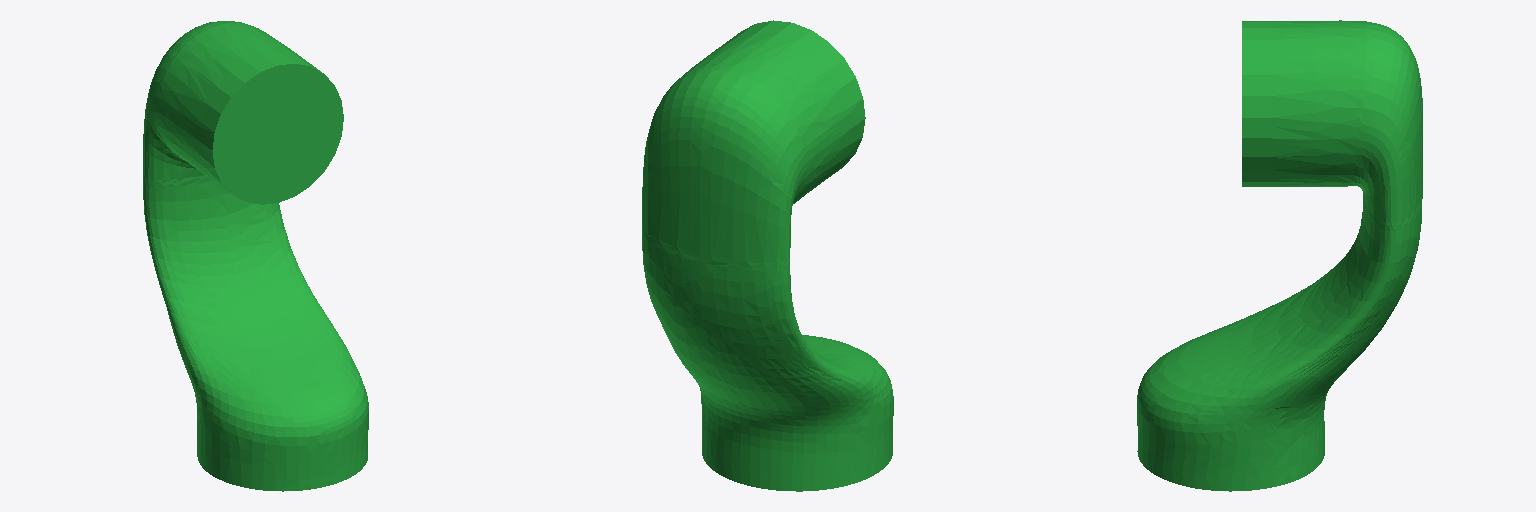
The robot description file, URDF, robot "xarm6_link4":
<?xml version="1.0" encoding="utf-8"?>
<!-- =================================================================================== -->
<!-- |    This document was autogenerated by xacro from xarm6_robot.urdf.xacro         | -->
<!-- |    EDITING THIS FILE BY HAND IS NOT RECOMMENDED                                 | -->
<!-- =================================================================================== -->
<robot name="xarm6_link4">
  <!--
  Author: Jason Peng <jason@ufactory.cc>
  Contributors:
-->
  <gazebo>
    <plugin filename="libgazebo_ros_control.so" name="gazebo_ros_control">
      <robotNamespace>/xarm</robotNamespace>
      <!-- <controlPeriod>0.0001</controlPeriod> -->
      <robotSimType>gazebo_ros_control/DefaultRobotHWSim</robotSimType>
      <legacyModeNS>true</legacyModeNS>
      <!-- <preserveWorldVelocity>true</preserveWorldVelocity> -->
    </plugin>
  </gazebo>
  <link name="world"/>
  <joint name="world_joint" type="fixed">
    <parent link="world"/>
    <child link="link4"/>
    <origin rpy="0 0 0" xyz="0 0 0"/>
  </joint>
  <material name="Black">
    <color rgba="0.0 0.0 0.0 1.0"/>
  </material>
  <material name="Red">
    <color rgba="0.85 0.19  0.21 1.0"/>
  </material>
  <material name="Blue">
    <color rgba="0.28 0.52 0.92 1.0"/>
  </material>
  <material name="Green">
    <color rgba="0.23 0.72 0.32 1.0"/>
  </material>
  <material name="Yellow">
    <color rgba="0.95 0.76 0.05 1.0"/>
  </material>
  <material name="White">
    <color rgba="1.0 1.0 1.0 1.0"/>
  </material>
  <material name="Silver">
    <color rgba="0.753 0.753 0.753 1.0"/>
  </material>
 
  <link name="link4">
    <visual>
      <geometry>
        <mesh filename="package://xarm_description/meshes/xarm6/visual/link4.stl"/>
      </geometry>
      <origin rpy="0 0 0" xyz="0.00021 -0.02578 0.02538"/>
      <material name="Green"/>
    </visual>
    <collision>
      <geometry>
        <mesh filename="package://xarm_description/meshes/xarm6/collision/link4_vhacd.obj"/>
      </geometry>
      <origin rpy="0 0 0" xyz="0.00021 -0.02578 0.02538"/>
    </collision>
    <inertial>
      <origin rpy="0 0 0" xyz="0 0 0"/>
      <mass value="1.115"/>
      <inertia ixx="0.00439263" ixy="5.028E-05" ixz="1.374E-05" iyy="0.0040077" iyz="0.00045338" izz="0.00110321"/>
    </inertial>
  </link>
  
</robot>

--- Facts derived from the render (not from the file) ---
Views: 3 orthographic renders of the robot side by side, from view 1: azimuth 30°, elevation 25°; view 2: azimuth 150°, elevation 25°; view 3: azimuth 270°, elevation 25°.
Model xarm6_link4 with 2 links and 1 joints (1 fixed), rooted at world, posed all joints at 0.
Links seen in each view (by area): view 1: link4; view 2: link4; view 3: link4.
Link boxes in pixels (x1,y1,x2,y2): link4: [143, 21, 368, 491]; link4: [642, 20, 893, 491]; link4: [1137, 20, 1422, 491].
Bounding box of the posed robot: 0.0849 × 0.129 × 0.2105 m (x, y, z).
1 mesh visuals loaded from 1 distinct referenced files (1 binary STL).
